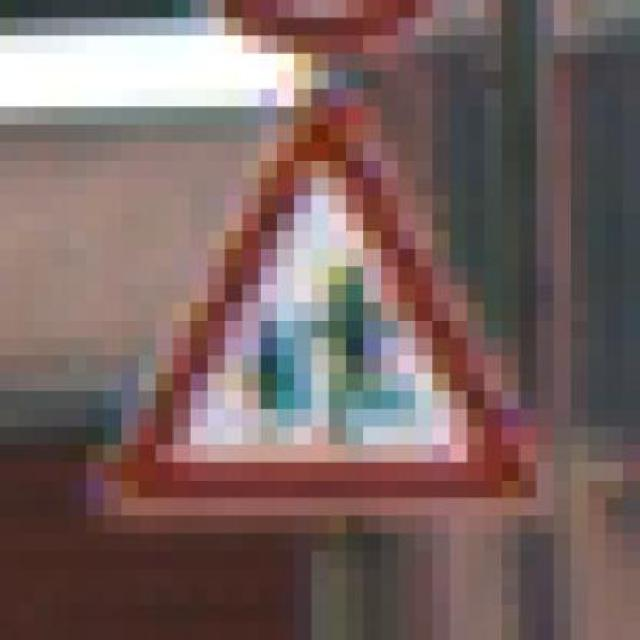Beware of children: (86, 89, 554, 516)
